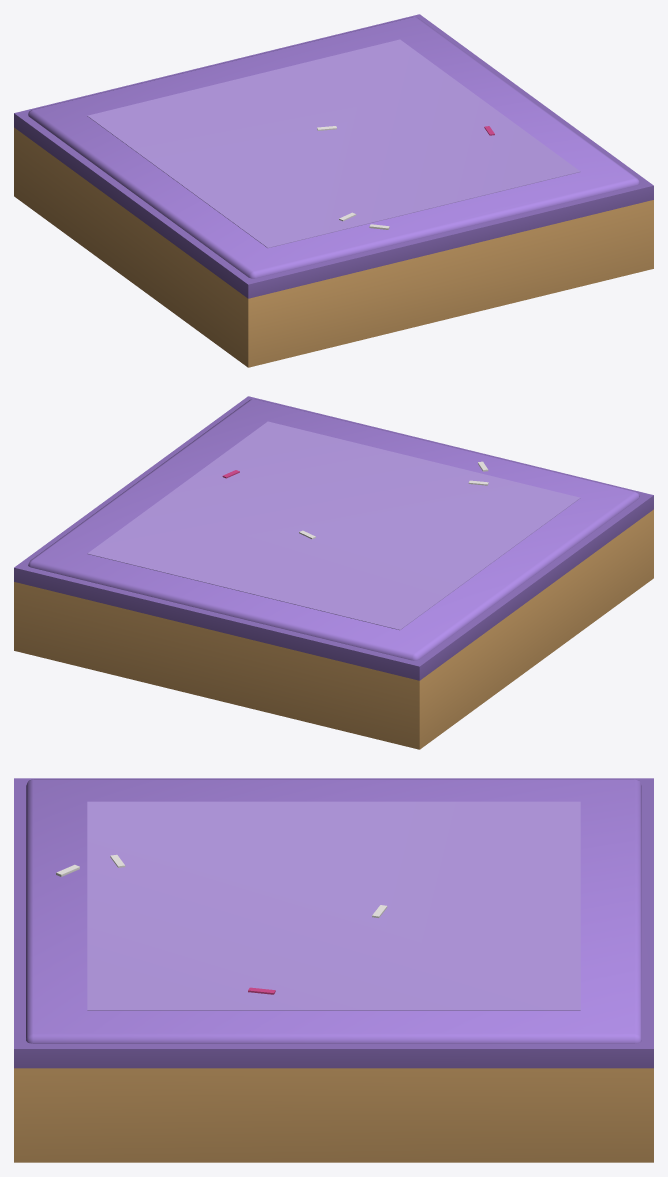
The model's file is candy_tile_lilac.glb.
3 views of the same model, one above another, from view 1: azimuth 30°, elevation 25°; view 2: azimuth 150°, elevation 25°; view 3: azimuth 270°, elevation 25° (orthographic). The views are drawn at different scales.
Visible parts, largest first — view 1: C_Tile_lilac__C_s_lilac_5, C_Tile_lilac__C_bisc_8, C_Tile_lilac__C_i_lilac_5, C_Tile_lilac__C_g_lilac_5; view 2: C_Tile_lilac__C_s_lilac_5, C_Tile_lilac__C_bisc_8, C_Tile_lilac__C_i_lilac_5, C_Tile_lilac__C_g_lilac_5; view 3: C_Tile_lilac__C_s_lilac_5, C_Tile_lilac__C_bisc_8, C_Tile_lilac__C_i_lilac_5, C_Tile_lilac__C_g_lilac_5.
Boxes of the visible parts, bbox=[...] form: C_Tile_lilac__C_s_lilac_5: bbox=[87, 39, 580, 248]; C_Tile_lilac__C_bisc_8: bbox=[14, 127, 653, 367]; C_Tile_lilac__C_i_lilac_5: bbox=[28, 17, 639, 278]; C_Tile_lilac__C_g_lilac_5: bbox=[14, 14, 653, 298]; C_Tile_lilac__C_s_lilac_5: bbox=[87, 421, 580, 630]; C_Tile_lilac__C_bisc_8: bbox=[14, 509, 653, 749]; C_Tile_lilac__C_i_lilac_5: bbox=[28, 399, 639, 660]; C_Tile_lilac__C_g_lilac_5: bbox=[14, 396, 653, 680]; C_Tile_lilac__C_s_lilac_5: bbox=[87, 801, 580, 1010]; C_Tile_lilac__C_bisc_8: bbox=[14, 1068, 653, 1162]; C_Tile_lilac__C_i_lilac_5: bbox=[26, 779, 641, 1043]; C_Tile_lilac__C_g_lilac_5: bbox=[14, 778, 653, 1068].
Bounding box in the file's own units: 4.8 × 1.02 × 4.8.
